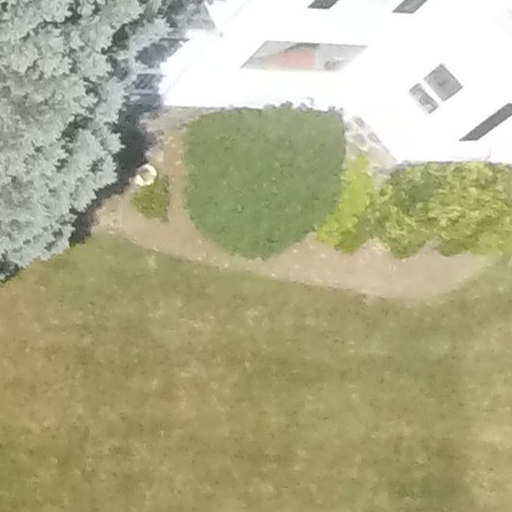container: (132, 155, 161, 192)
